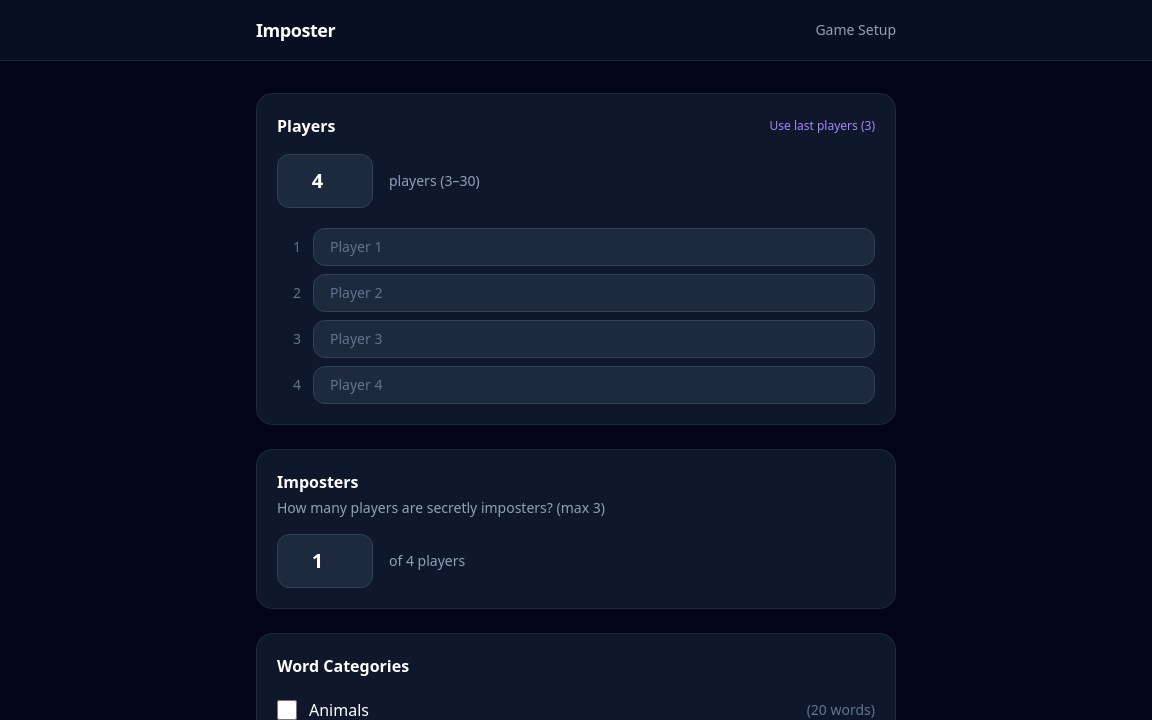
Test: Game Setup Page › Use last players button restores saved player names
Click the button "Use last players (3)".
click(822, 126)  # box x1=770 y1=118 x2=875 y2=134
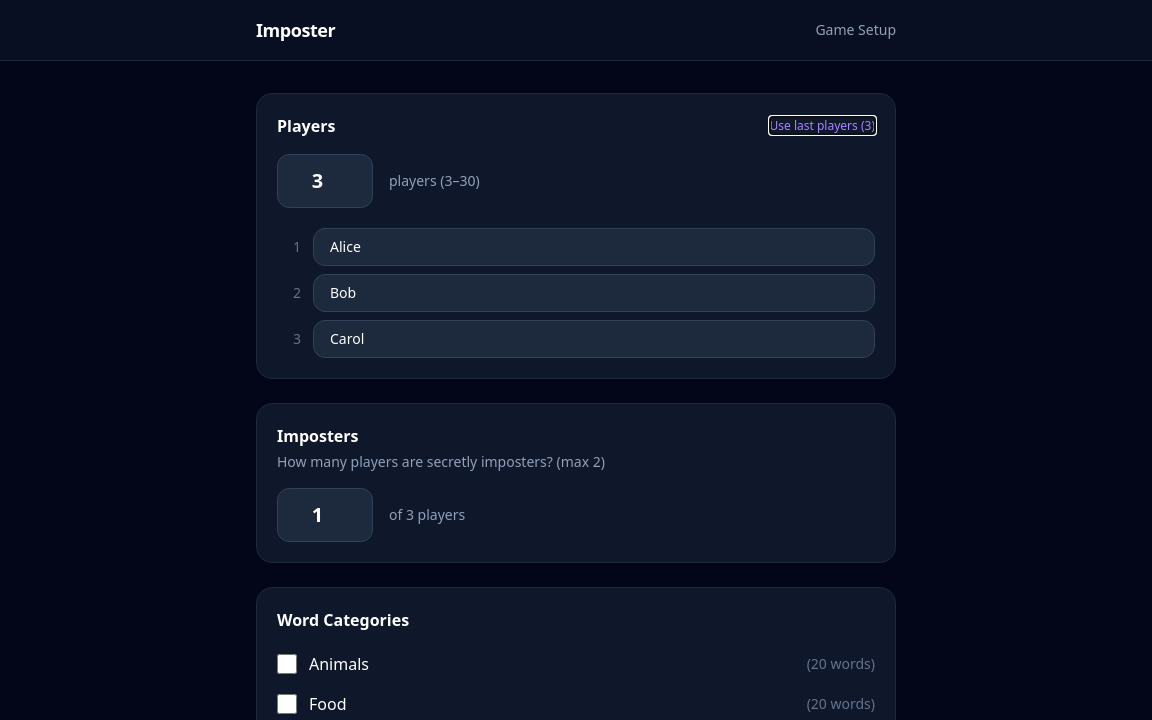
expect the field named "Name for player 1" holds "Alice": met, box x1=313 y1=228 x2=875 y2=266
expect the field named "Name for player 2" holds "Bob": met, box x1=313 y1=274 x2=875 y2=312
expect the field named "Name for player 3" holds "Carol": met, box x1=313 y1=320 x2=875 y2=358
